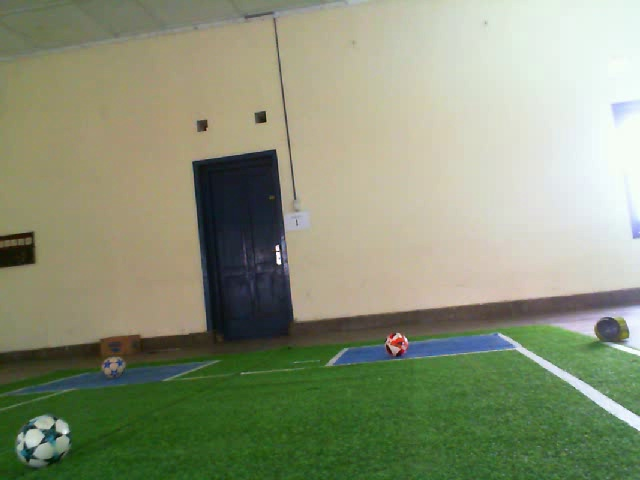ball: (10, 410, 74, 471), (382, 330, 413, 362), (98, 352, 128, 382)
